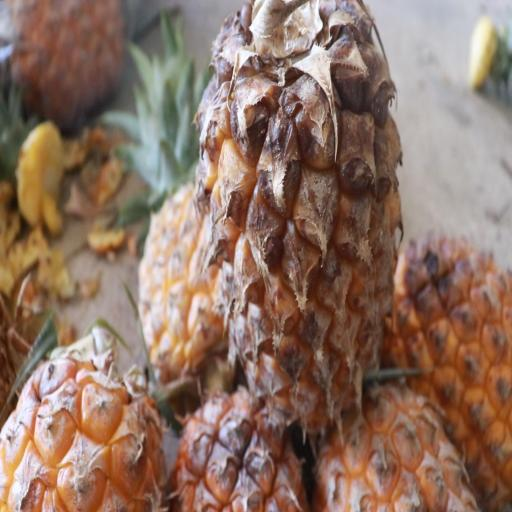Pineapple - v8 v1: (180, 0, 408, 447), (392, 211, 512, 511), (134, 116, 251, 405), (0, 321, 161, 512)
